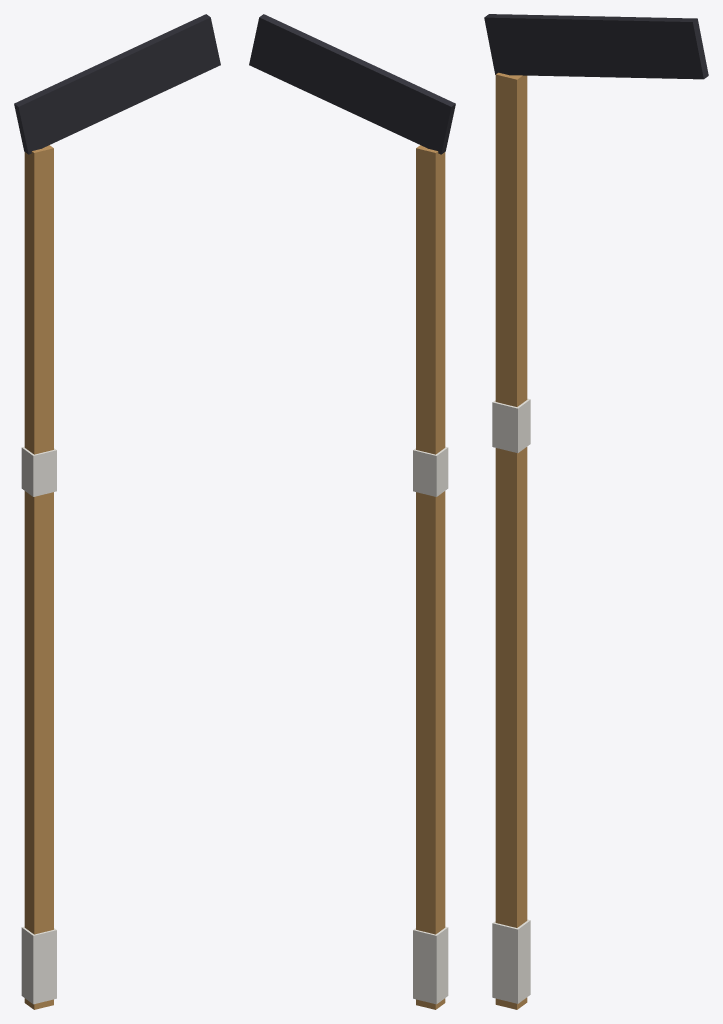
The model's file is hockey-stick.glb.
3 views of the same model, side by side, from view 1: azimuth 30°, elevation 25°; view 2: azimuth 150°, elevation 25°; view 3: azimuth 330°, elevation 25° (orthographic). The views are drawn at different scales.
Parts seen in each view (by area): view 1: Stick shaft, Stick blade, Stick tape; view 2: Stick shaft, Stick blade, Stick tape; view 3: Stick shaft, Stick blade, Stick tape.
Part boxes in pixels (x1,y1,x2,y2): Stick shaft: (24,145,53,1009); Stick blade: (14,14,220,154); Stick tape: (21,446,56,1004); Stick shaft: (416,145,445,1009); Stick blade: (249,14,455,154); Stick tape: (413,446,448,1004); Stick shaft: (495,72,527,1009); Stick blade: (484,14,708,79); Stick tape: (492,398,530,1003).
Size of the model in its own units: 0.309 by 1.38 by 0.031.
